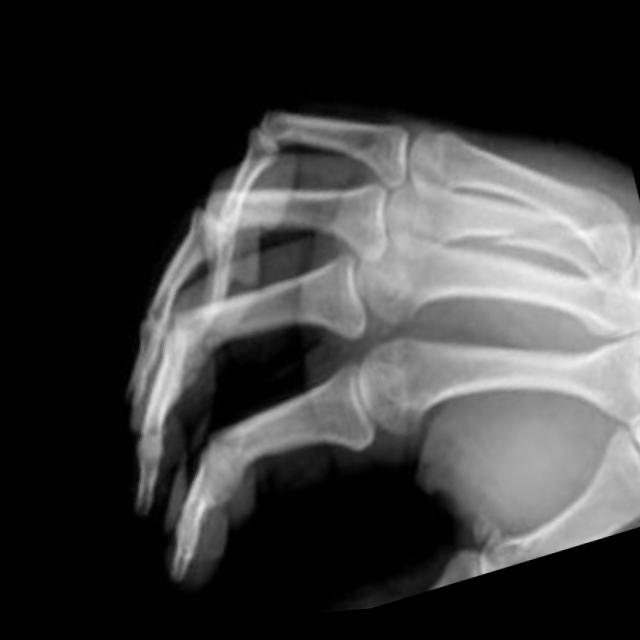fracture: (473, 212, 548, 274)
